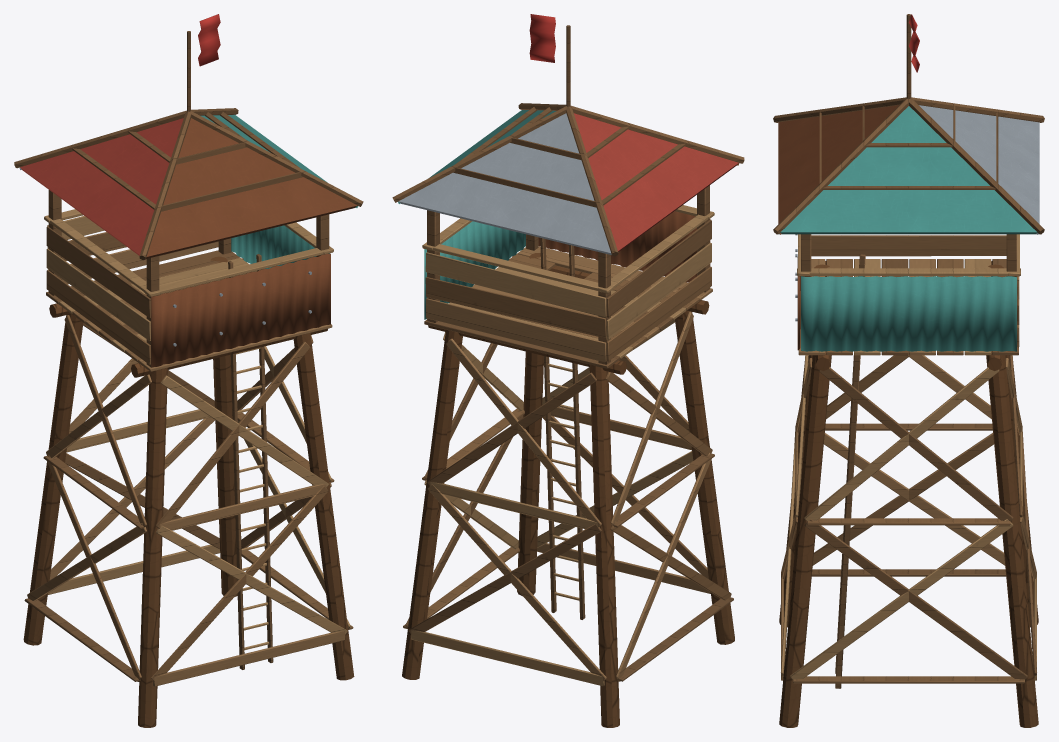
The model's file is watchtower_wood.glb.
3 views of the same model, side by side, from view 1: azimuth 30°, elevation 25°; view 2: azimuth 150°, elevation 25°; view 3: azimuth 270°, elevation 25° (orthographic). The views are drawn at different scales.
Parts seen in each view (by area): view 1: watchtower_wood; view 2: watchtower_wood; view 3: watchtower_wood.
Part boxes in pixels (box(x1,y1,x2,y2)): watchtower_wood: box(14, 14, 363, 727); watchtower_wood: box(392, 14, 744, 727); watchtower_wood: box(773, 14, 1044, 727).
Size of the model in its own units: 3.65 by 9.87 by 3.65.
Materials: 13 (13 with a texture image).
